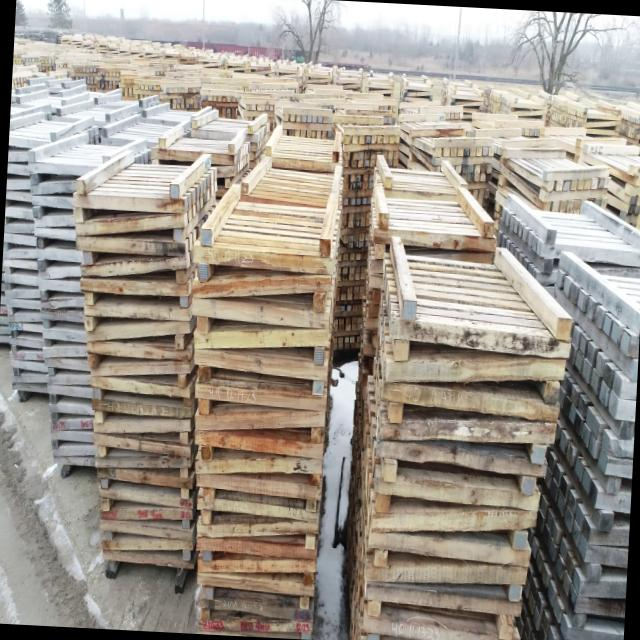stack: (50, 178, 213, 590)
